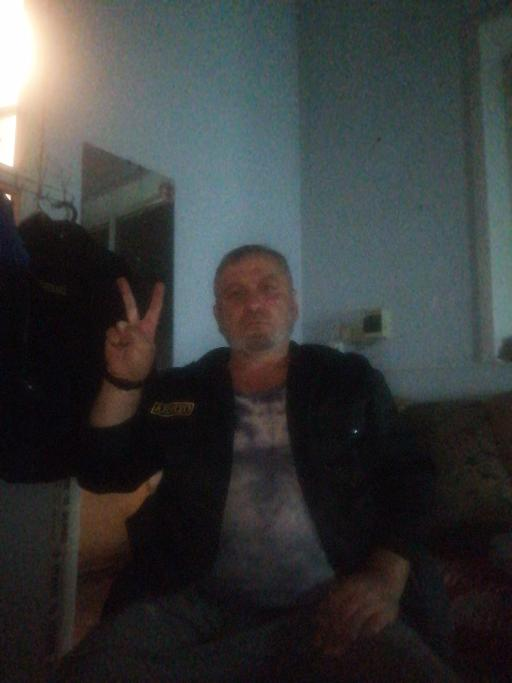no_gesture: (307, 570, 401, 660)
peace: (100, 272, 167, 386)
